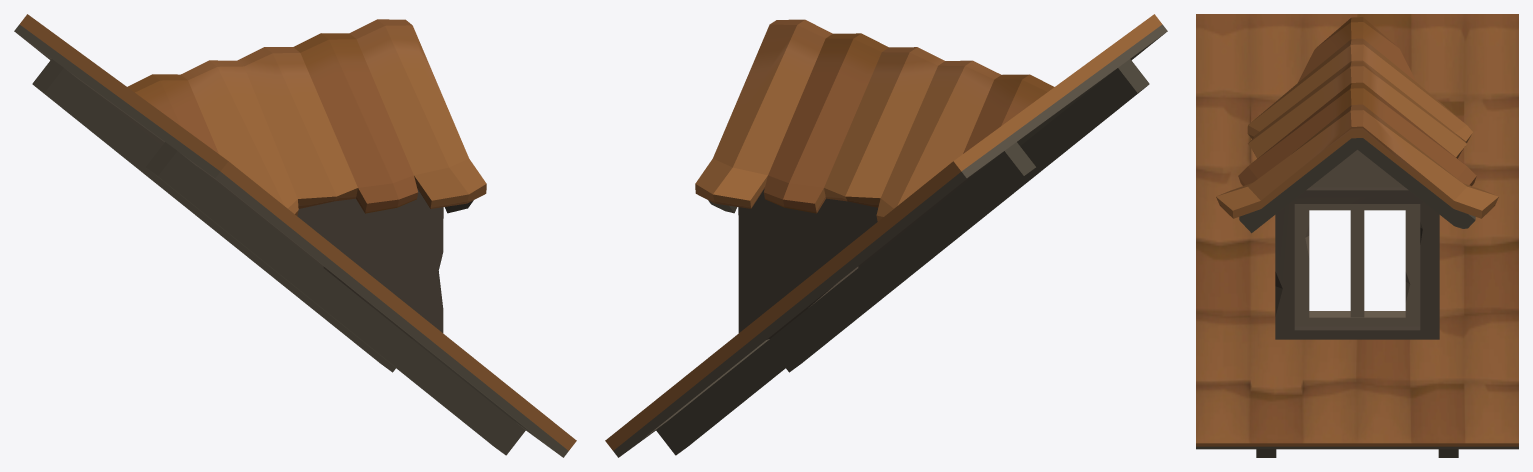
File: kingdom_SM_Bld_House_Roof_Tile_Window_02.gltf
The picture shows the model from 3 angles, left to right: view 1: azimuth 30°, elevation 25°; view 2: azimuth 150°, elevation 25°; view 3: azimuth 270°, elevation 25°; orthographic projection. The views are drawn at different scales.
Visible parts, largest first — view 1: SM_Bld_House_Roof_Tile_Window_02; view 2: SM_Bld_House_Roof_Tile_Window_02; view 3: SM_Bld_House_Roof_Tile_Window_02.
Boxes of the visible parts, x1,y1,x2,y2 form: SM_Bld_House_Roof_Tile_Window_02: (14,14,576,457); SM_Bld_House_Roof_Tile_Window_02: (605,14,1167,457); SM_Bld_House_Roof_Tile_Window_02: (1196,14,1518,457).
Bounding box in the file's own units: 2.74 × 2.76 × 2.5.
Materials: 1 (1 with a texture image).
